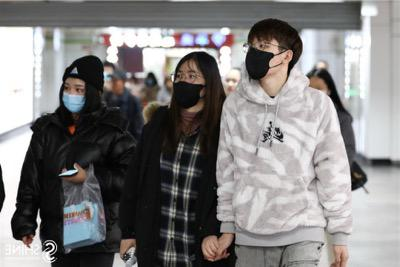with_mask: (243, 40, 281, 80), (173, 68, 203, 110), (62, 81, 84, 113)
without_mask: (222, 78, 239, 98)
